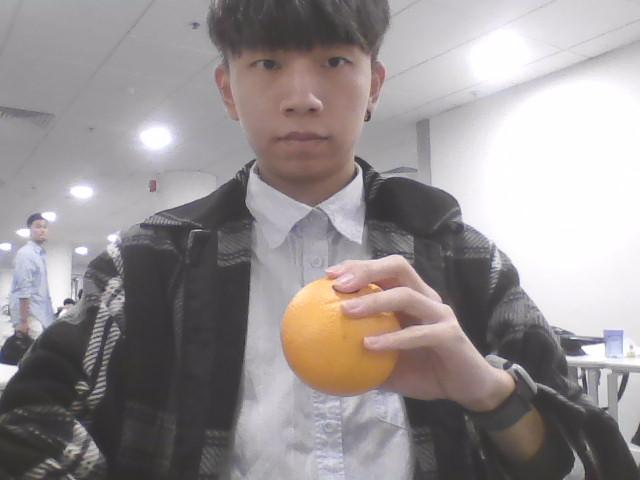orange: (280, 276, 403, 396)
